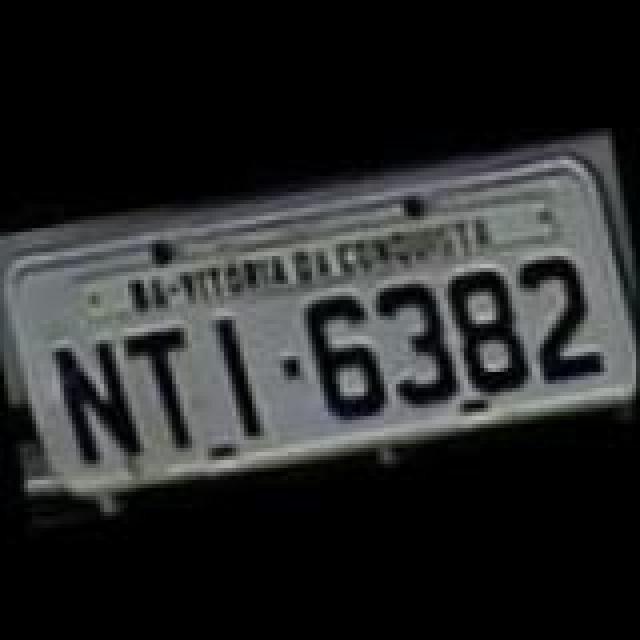1: (202, 300, 278, 444)
2: (506, 236, 610, 384)
3: (362, 258, 466, 414)
6: (292, 280, 392, 424)
8: (436, 250, 536, 398)
N: (46, 322, 146, 474)
T: (110, 320, 210, 464)
